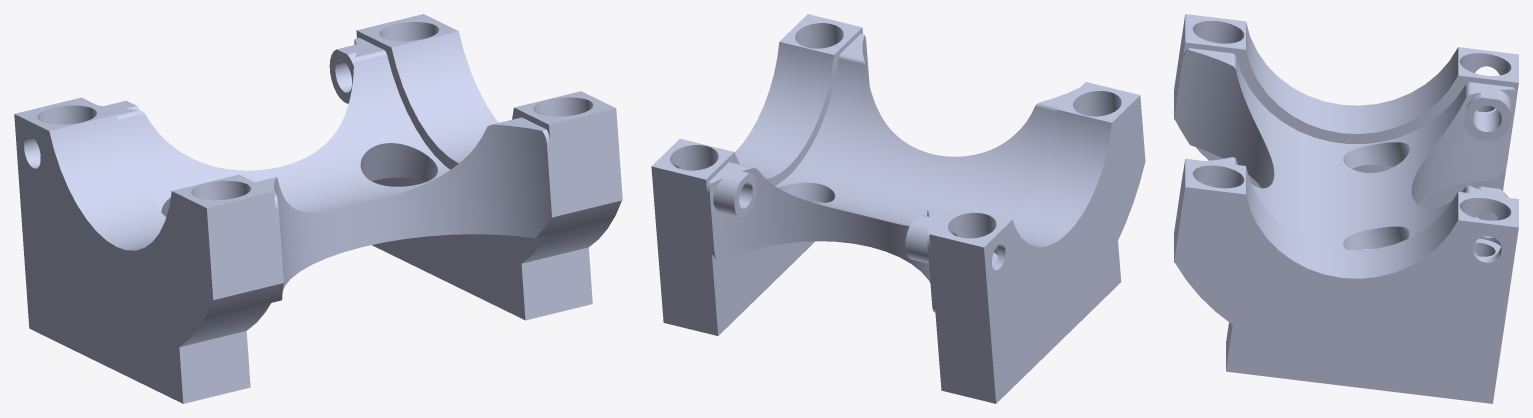
The model's file is Bridge.glb.
The picture shows the model from 3 angles, left to right: view 1: azimuth 30°, elevation 25°; view 2: azimuth 150°, elevation 25°; view 3: azimuth 270°, elevation 25°; orthographic projection. The views are drawn at different scales.
Parts seen in each view (by area): view 1: Bridge; view 2: Bridge; view 3: Bridge.
Part boxes in pixels (x1,y1,x2,y2): Bridge: [14, 14, 622, 403]; Bridge: [651, 14, 1145, 403]; Bridge: [1174, 14, 1518, 403].
Size of the model in its own units: 0.073 by 0.0426 by 0.0615.
